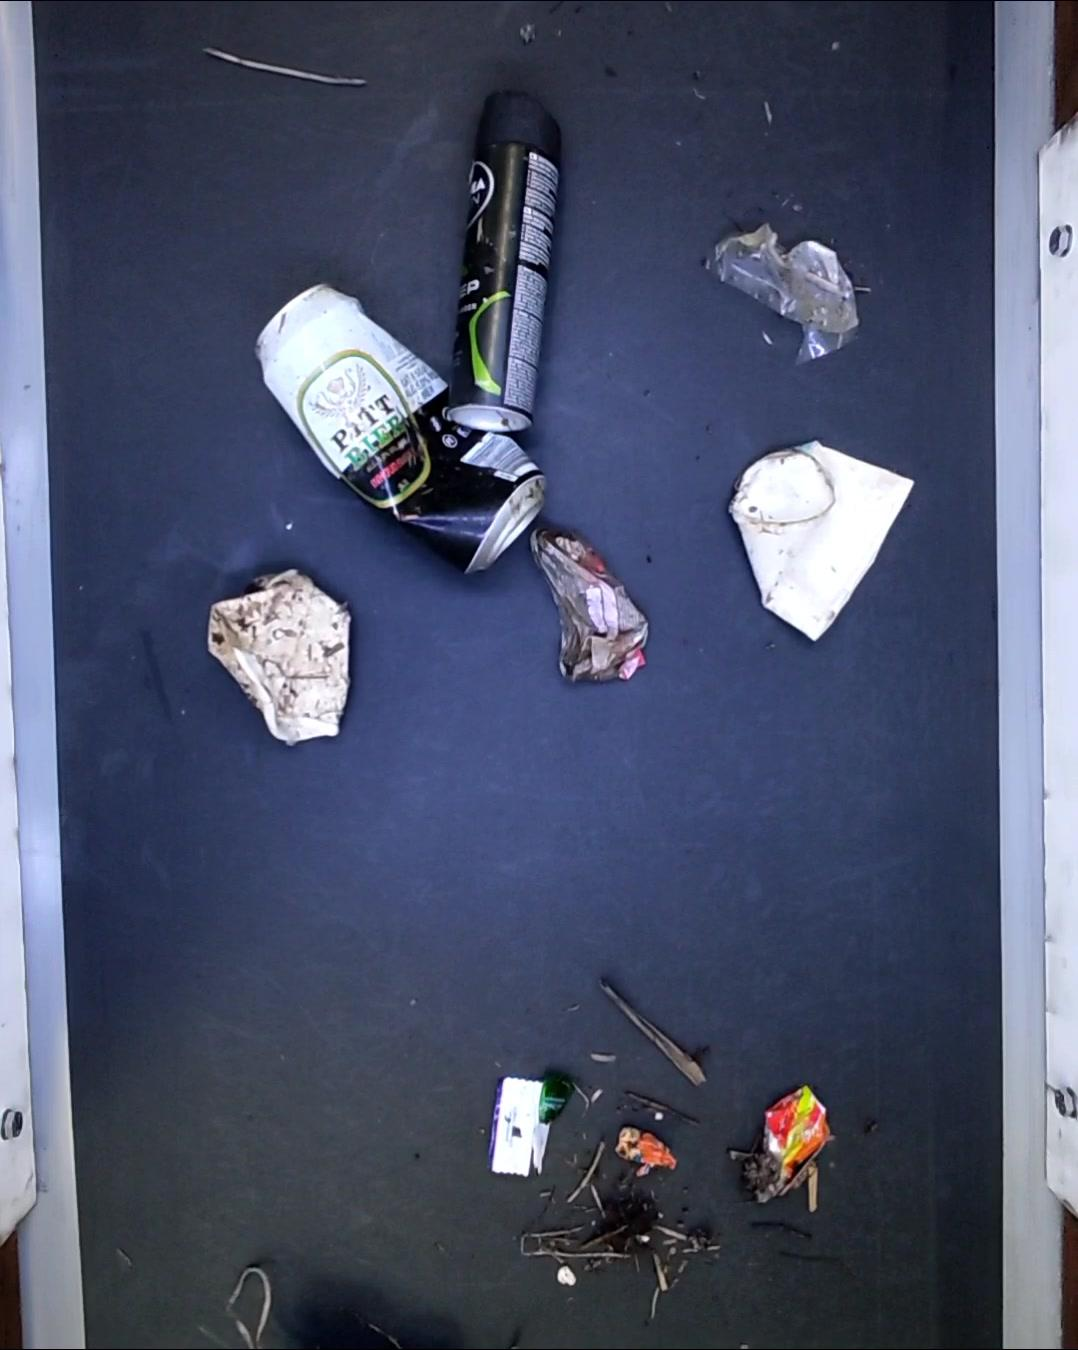Drankblikjes: (252, 284, 544, 572)
Plastic folies of stukken daarvan 2.5- 50 cm: (711, 224, 867, 369), (527, 528, 653, 685)
Snoep snack en chips verpakkingen: (490, 1082, 547, 1186)
